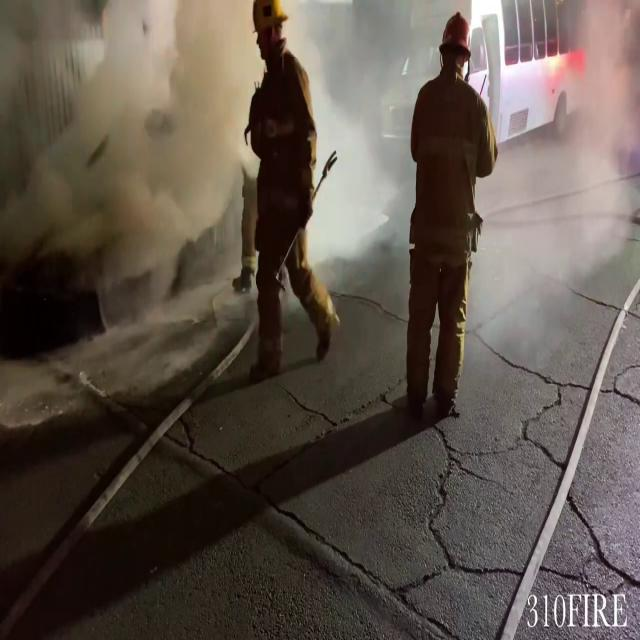Smoke: (0, 0, 256, 344), (553, 0, 640, 213)
